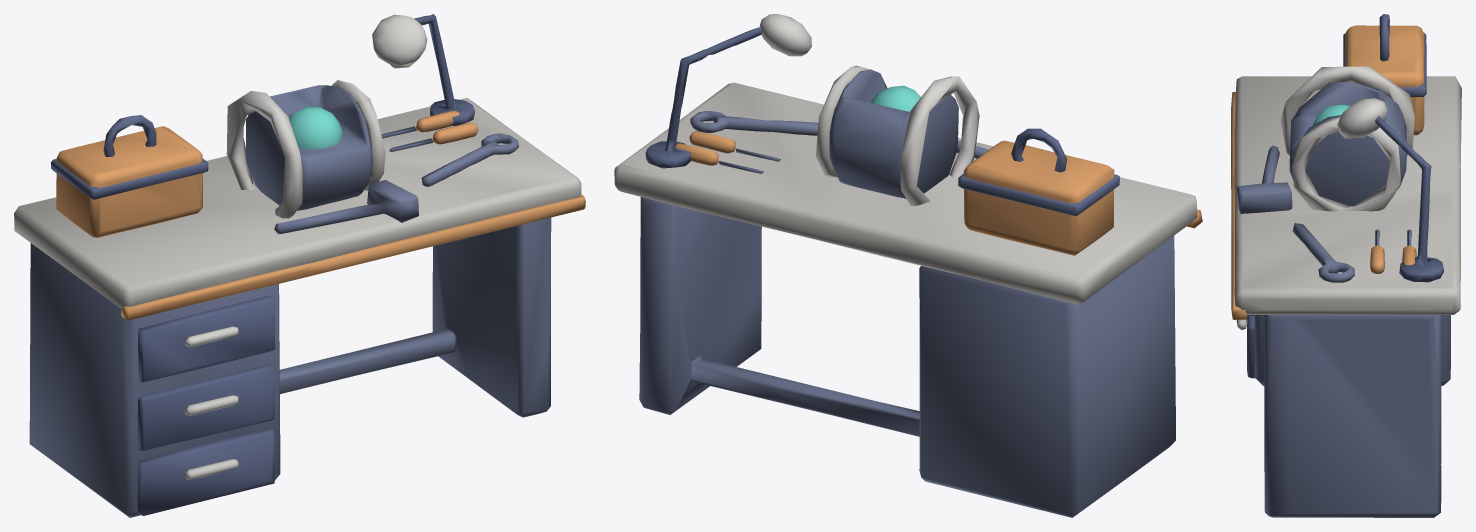
Rendered from bench.glb.
3 renders of one model, left to right at view 1: azimuth 30°, elevation 25°; view 2: azimuth 150°, elevation 25°; view 3: azimuth 270°, elevation 25°, orthographic. The views are drawn at different scales.
Parts seen in each view (by area): view 1: bench, bench_pulse_glow; view 2: bench, bench_pulse_glow; view 3: bench, bench_pulse_glow.
Boxes of the visible parts, left/top/right/bottom form: bench: left=14, top=14, right=585, bottom=517; bench_pulse_glow: left=289, top=106, right=342, bottom=149; bench: left=614, top=14, right=1202, bottom=517; bench_pulse_glow: left=870, top=85, right=920, bottom=111; bench: left=1231, top=14, right=1461, bottom=517; bench_pulse_glow: left=1312, top=104, right=1350, bottom=125.
Bounding box in the file's own units: 2.1 × 1.66 × 0.9384.
